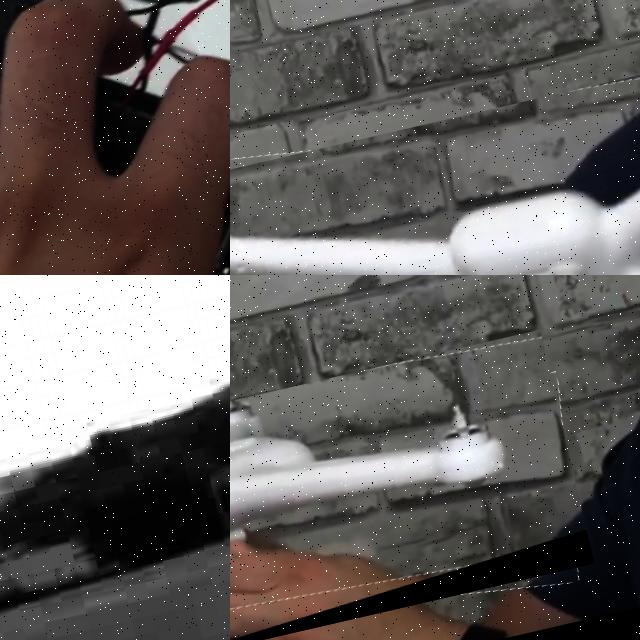drone: (230, 329, 594, 640), (230, 45, 640, 275), (0, 0, 230, 275)
